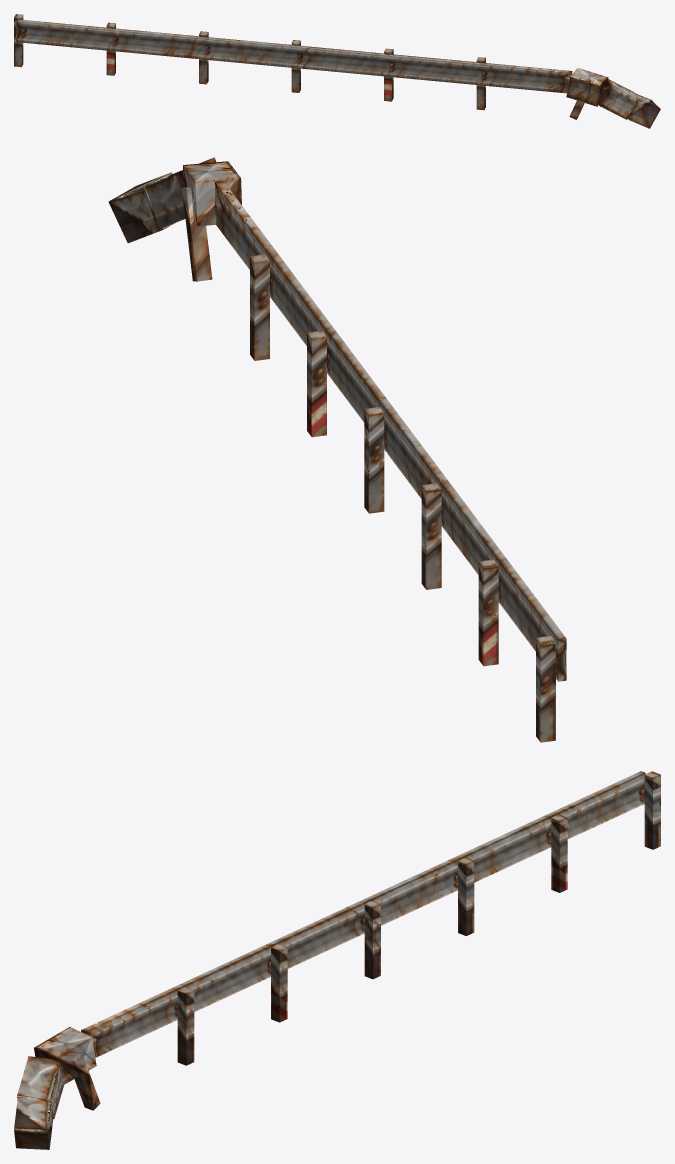
File: guardrail.glb
3 renders of one model, top to bottom at view 1: azimuth 30°, elevation 25°; view 2: azimuth 150°, elevation 25°; view 3: azimuth 270°, elevation 25°, orthographic. The views are drawn at different scales.
Parts seen in each view (by area): view 1: guardrail_game; view 2: guardrail_game; view 3: guardrail_game.
Part boxes in pixels (x1,y1,x2,y2): guardrail_game: [14, 14, 660, 128]; guardrail_game: [108, 157, 566, 742]; guardrail_game: [14, 771, 660, 1149].
Bounding box in the file's own units: 6.9 × 0.8262 × 6.12.
1 material, 1 textured.
